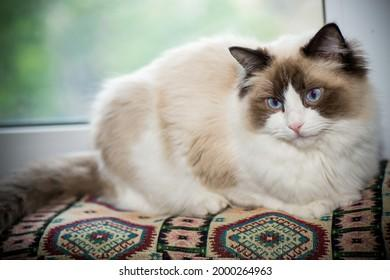ragdoll: (219, 17, 369, 162)
